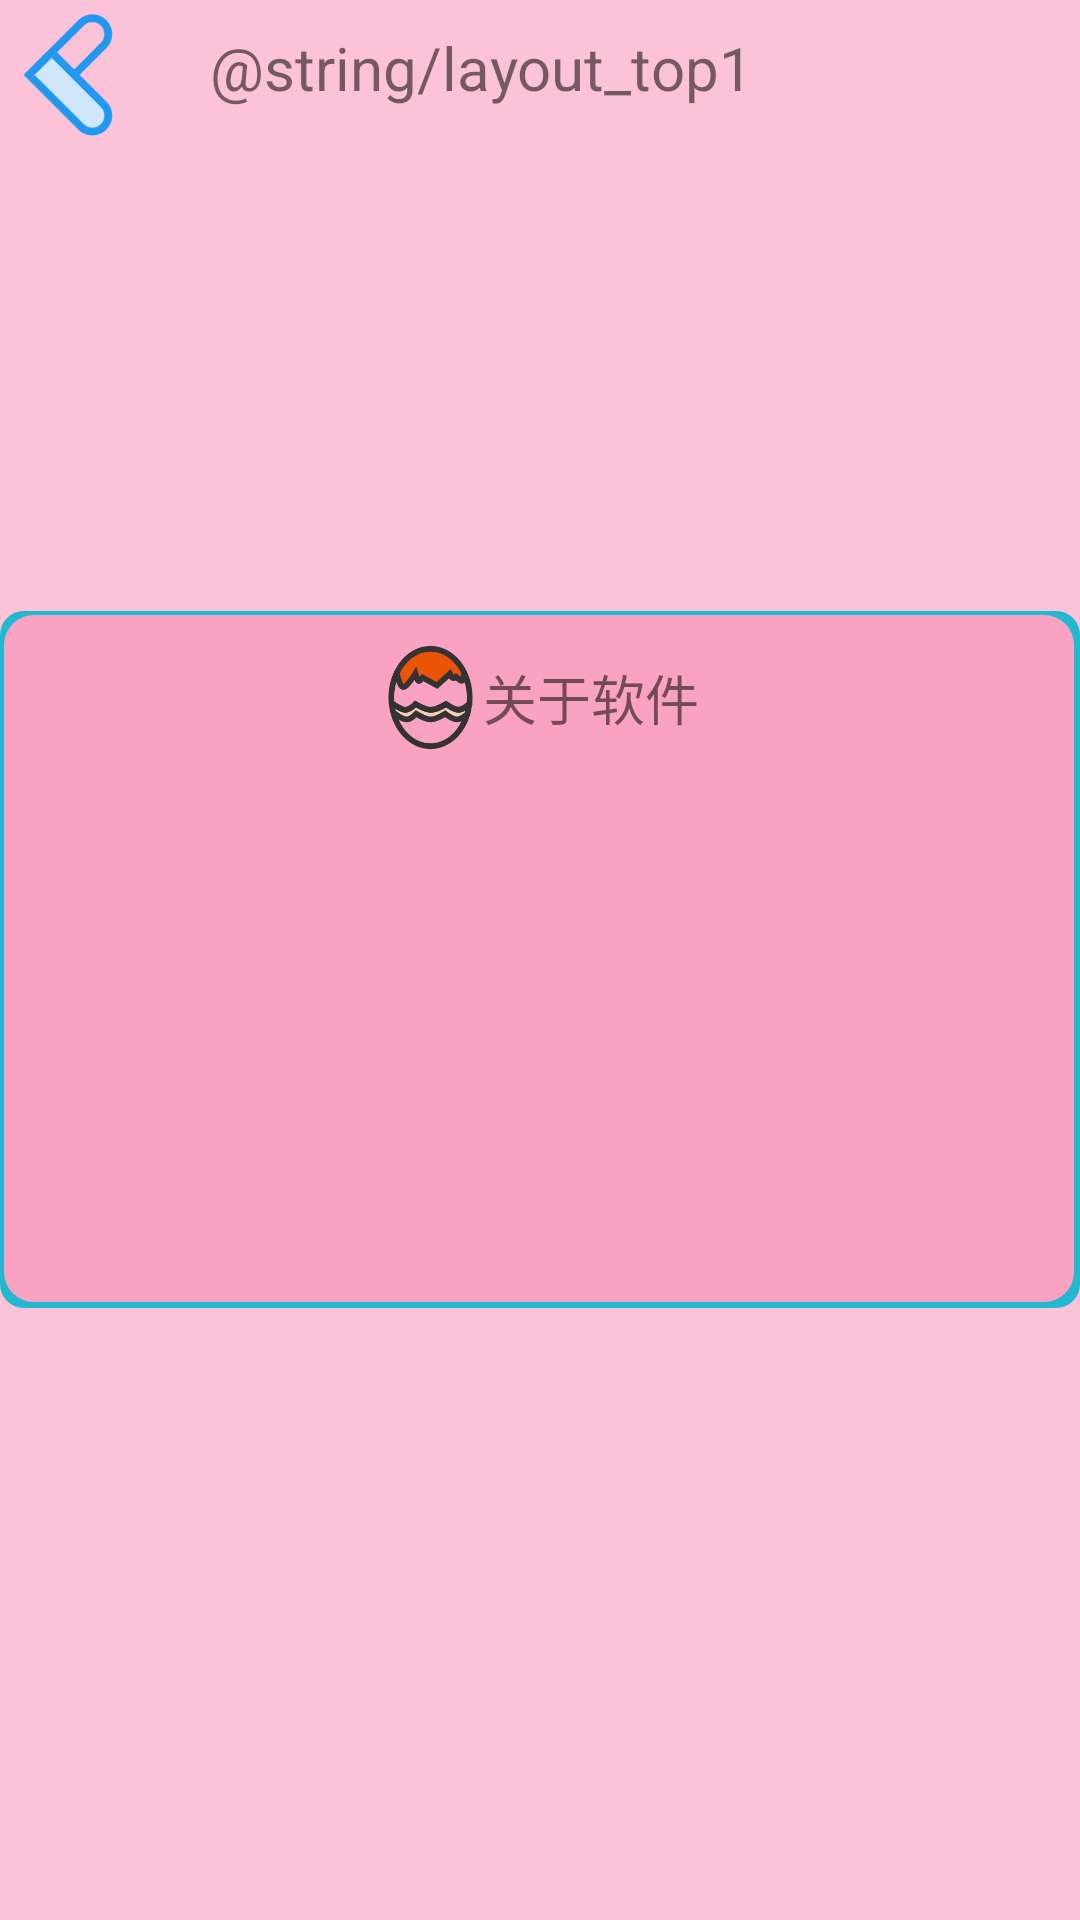

Icon click points for this 1080 × 1920 phone screenshot, format (x,y):
all arrow: (68,75)
